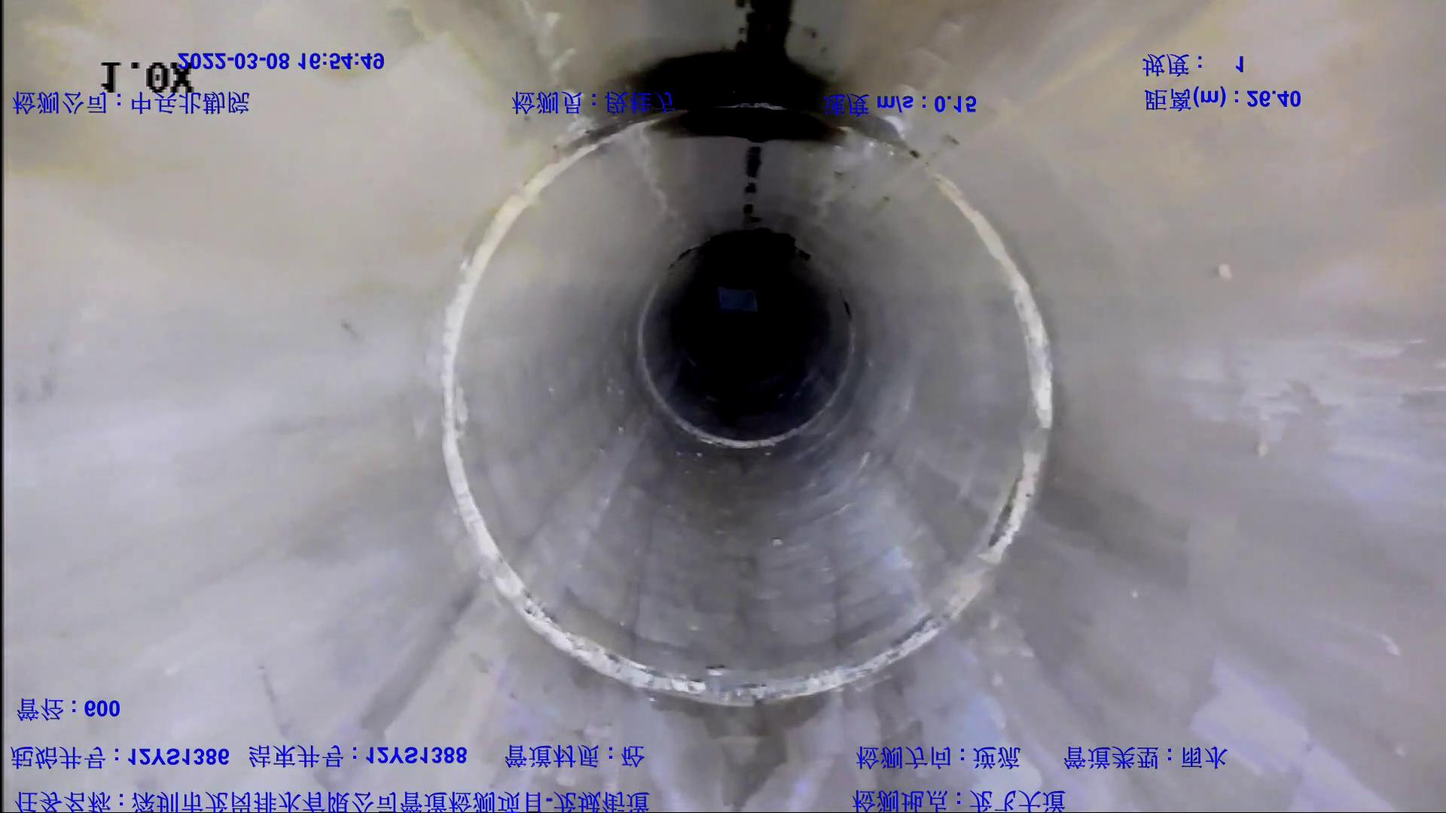CKTJ: (441, 116, 1053, 706), (635, 333, 848, 449)
